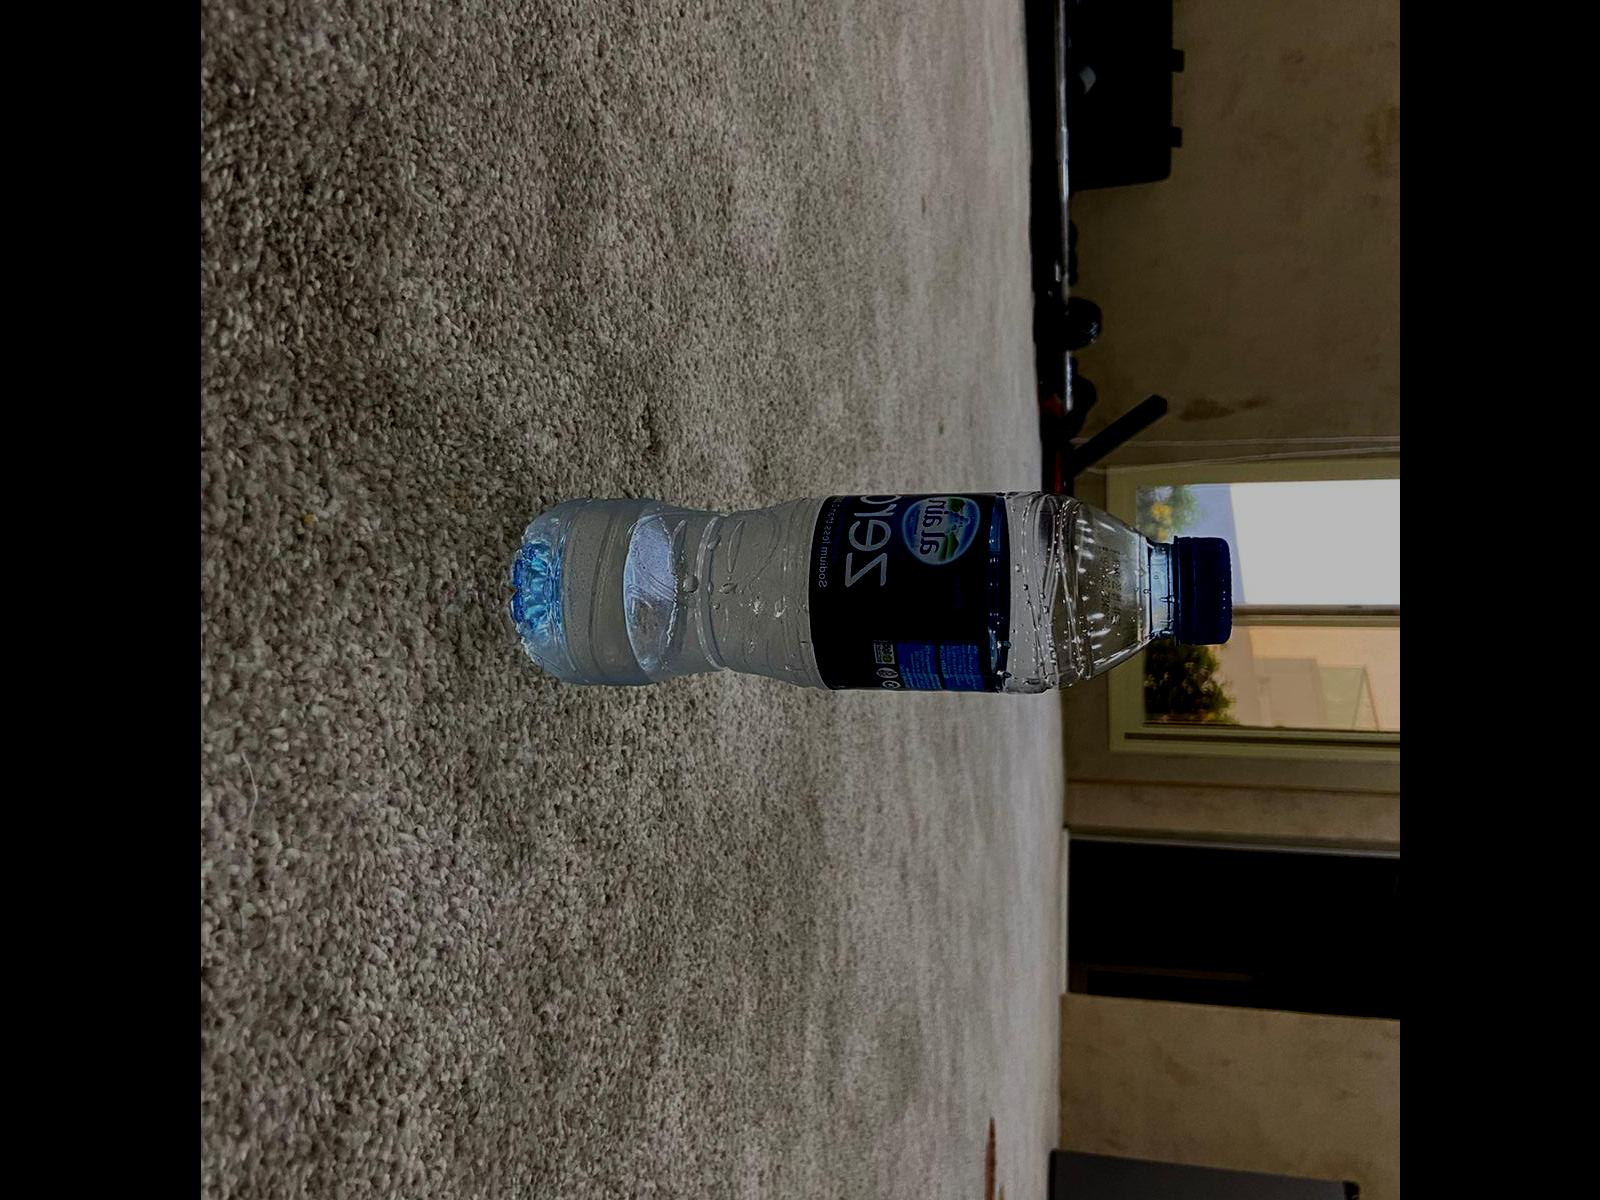bottle: (504, 478, 1238, 703)
